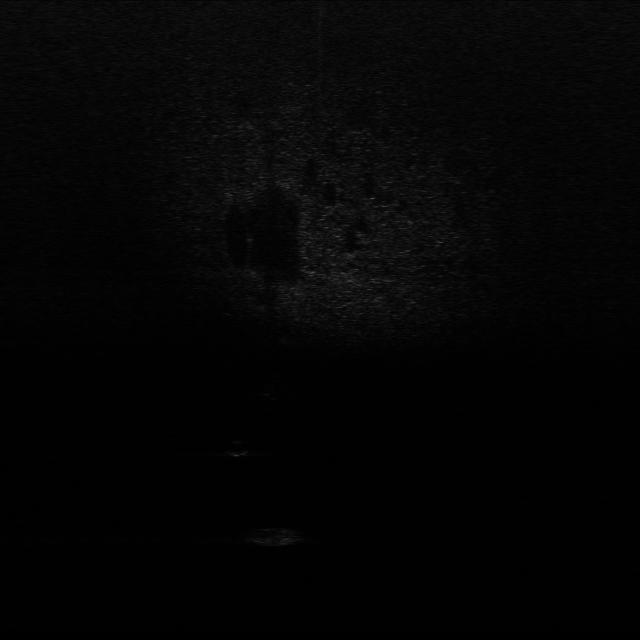ball: (222, 436, 256, 461)
circle cage: (246, 518, 313, 550)
